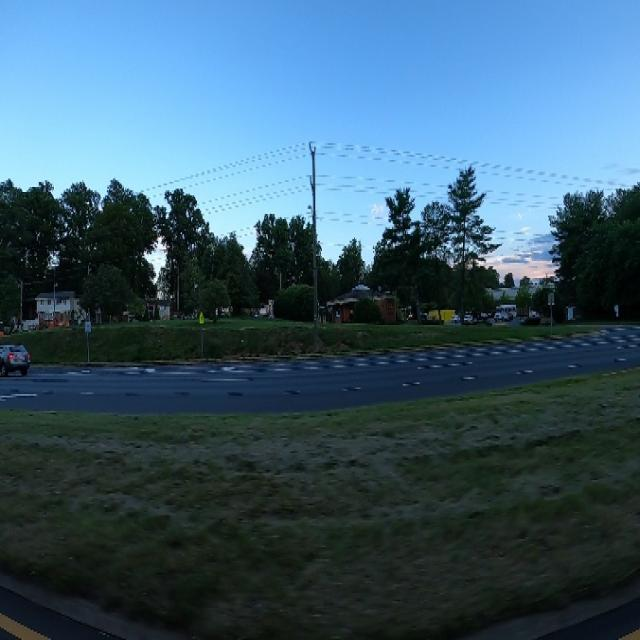car: (0, 332, 33, 377)
